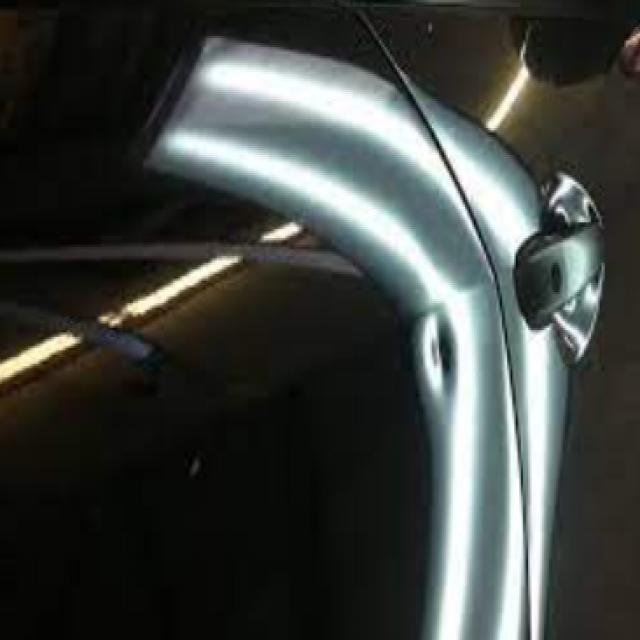dents: (413, 304, 460, 432)
